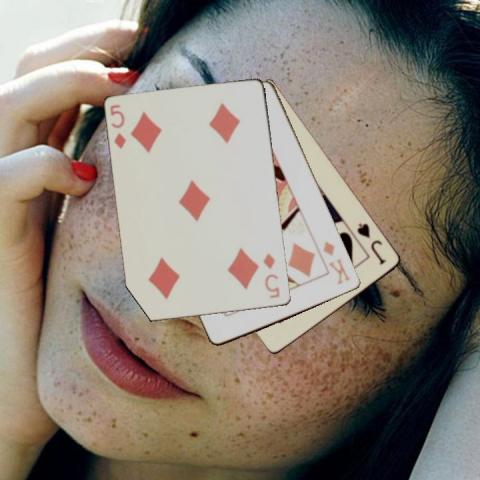5d: (107, 101, 128, 151), (261, 251, 281, 300)
Js: (355, 220, 388, 266)
Kd: (321, 238, 352, 286)
